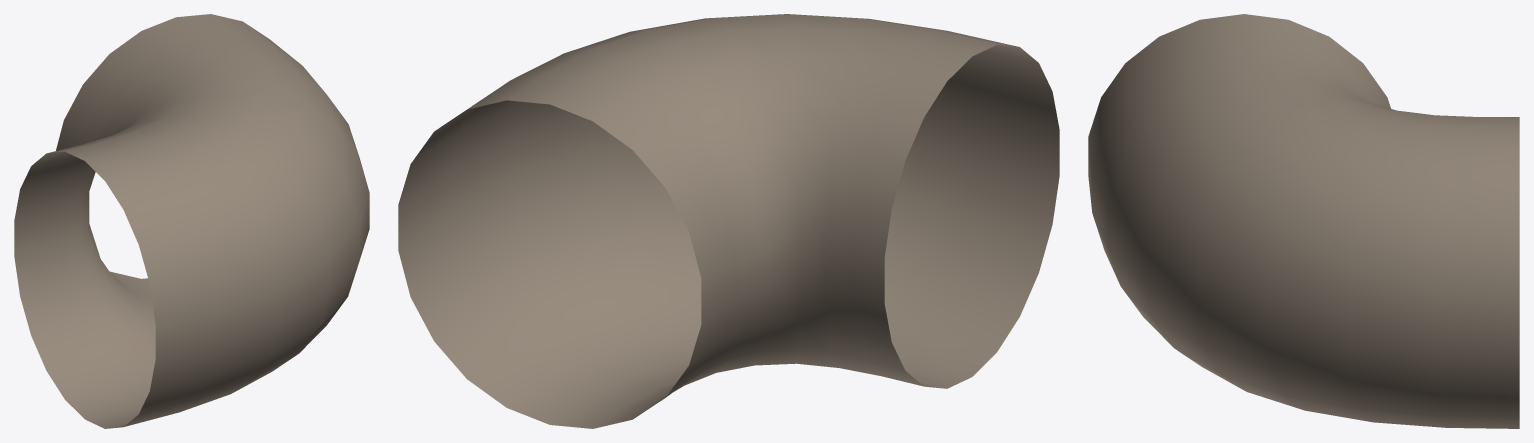
File: mesh_TileCurva.fbx
3 views of the same model, side by side, from view 1: azimuth 30°, elevation 25°; view 2: azimuth 150°, elevation 25°; view 3: azimuth 270°, elevation 25° (orthographic). The views are drawn at different scales.
Visible parts, largest first — view 1: mesh_TileCurva; view 2: mesh_TileCurva; view 3: mesh_TileCurva.
Part boxes in pixels (<box>): mesh_TileCurva: <box>14,14,369,428</box>; mesh_TileCurva: <box>398,14,1059,428</box>; mesh_TileCurva: <box>1088,14,1519,428</box>.
Size of the model in its own units: 2166 by 1582 by 2166.
